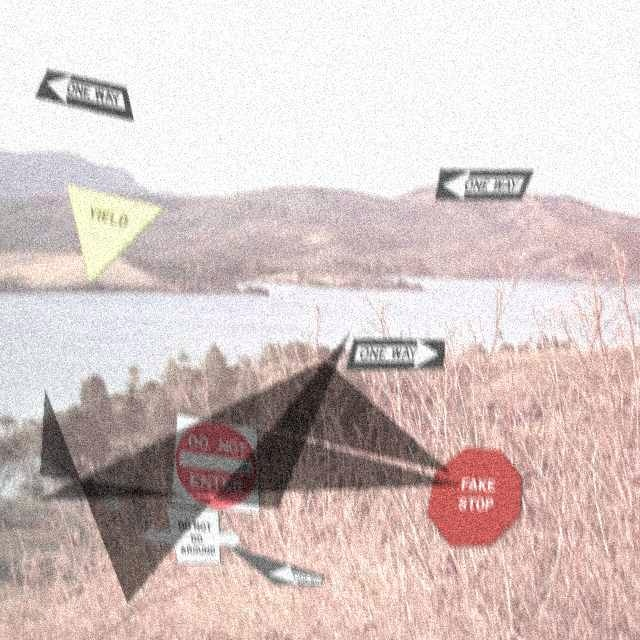DO_NOT_ENTER: (173, 413, 262, 513)
DO_NOT_GO_AROUND: (144, 504, 244, 563)
FAKE_STOP: (428, 446, 525, 546)
ONE_WAY_ left: (36, 68, 136, 120), (227, 543, 327, 585), (436, 168, 536, 199)
ONE_WAY_ right: (347, 337, 447, 369)
YIELD: (68, 183, 167, 283)
